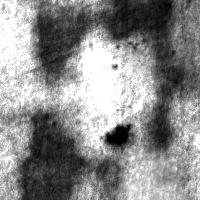patches: (30, 1, 183, 89), (106, 0, 200, 86), (20, 108, 85, 199), (115, 146, 187, 200), (145, 64, 185, 153), (101, 121, 133, 147), (94, 158, 121, 188)
